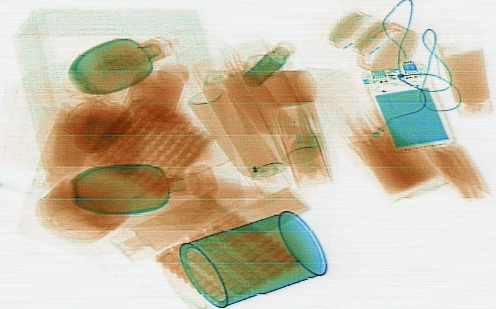pressure: (193, 52, 288, 178), (232, 33, 322, 165), (186, 87, 293, 195)
